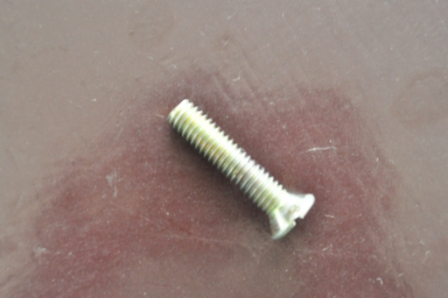NUT (MT): (165, 97, 322, 244)
